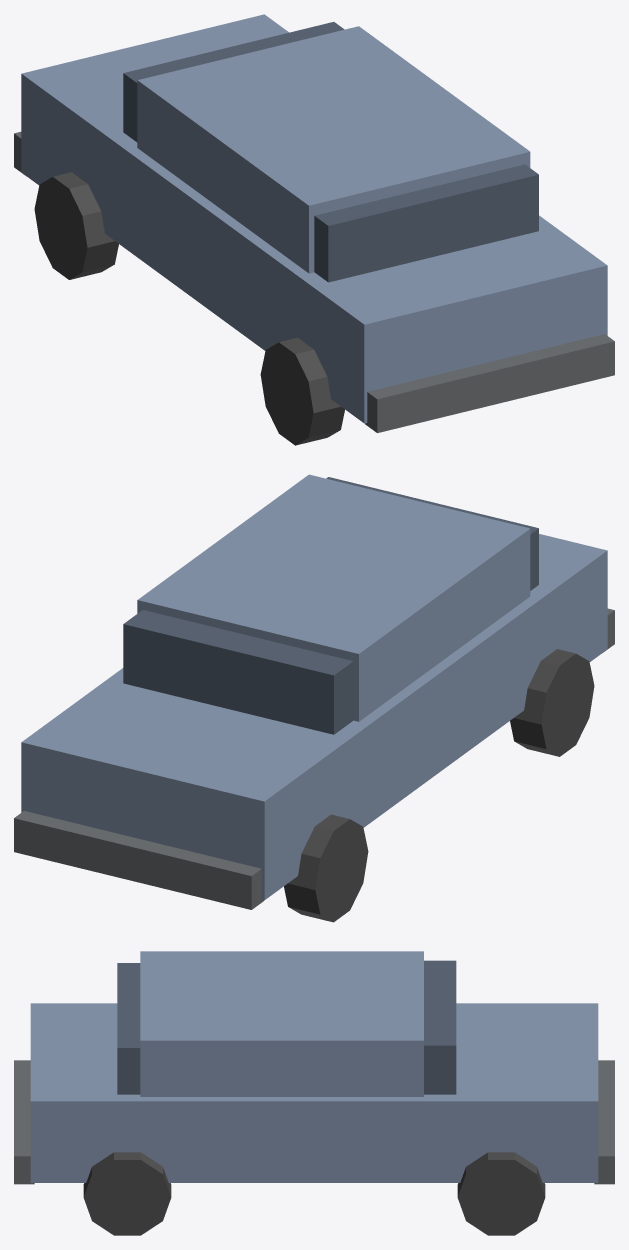
The model's file is Car_Sedan.glb.
3 views of the same model, one above another, from view 1: azimuth 30°, elevation 25°; view 2: azimuth 150°, elevation 25°; view 3: azimuth 270°, elevation 25° (orthographic). The views are drawn at different scales.
Visible parts, largest first — view 1: Body, Wheel_FL, Wheel_RL; view 2: Body, Wheel_RL, Wheel_FL; view 3: Body, Wheel_FR, Wheel_RR.
Boxes of the visible parts, x1,y1,x2,y2 form: Body: [14, 14, 614, 432]; Wheel_FL: [34, 172, 118, 279]; Wheel_RL: [260, 337, 344, 445]; Body: [14, 474, 614, 909]; Wheel_RL: [510, 649, 594, 756]; Wheel_FL: [284, 814, 368, 922]; Body: [14, 951, 614, 1184]; Wheel_FR: [457, 1152, 545, 1235]; Wheel_RR: [83, 1152, 171, 1235].
Bounding box in the file's own units: 2.08 × 1.56 × 4.66.
